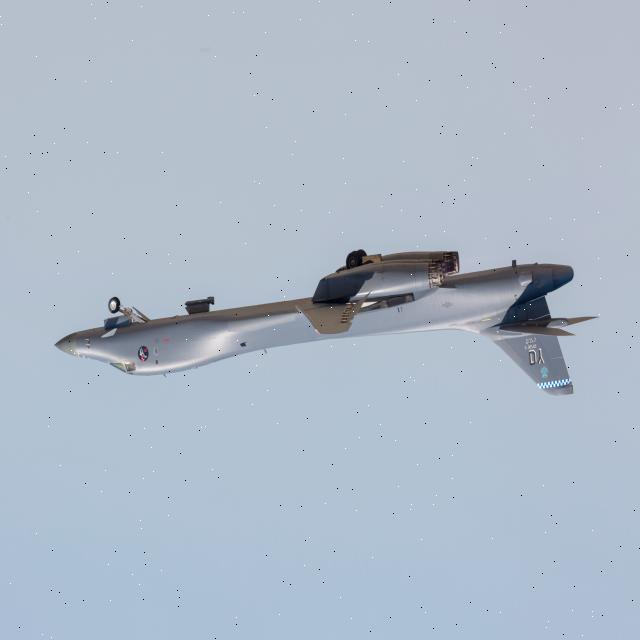B1: (34, 183, 619, 425)
